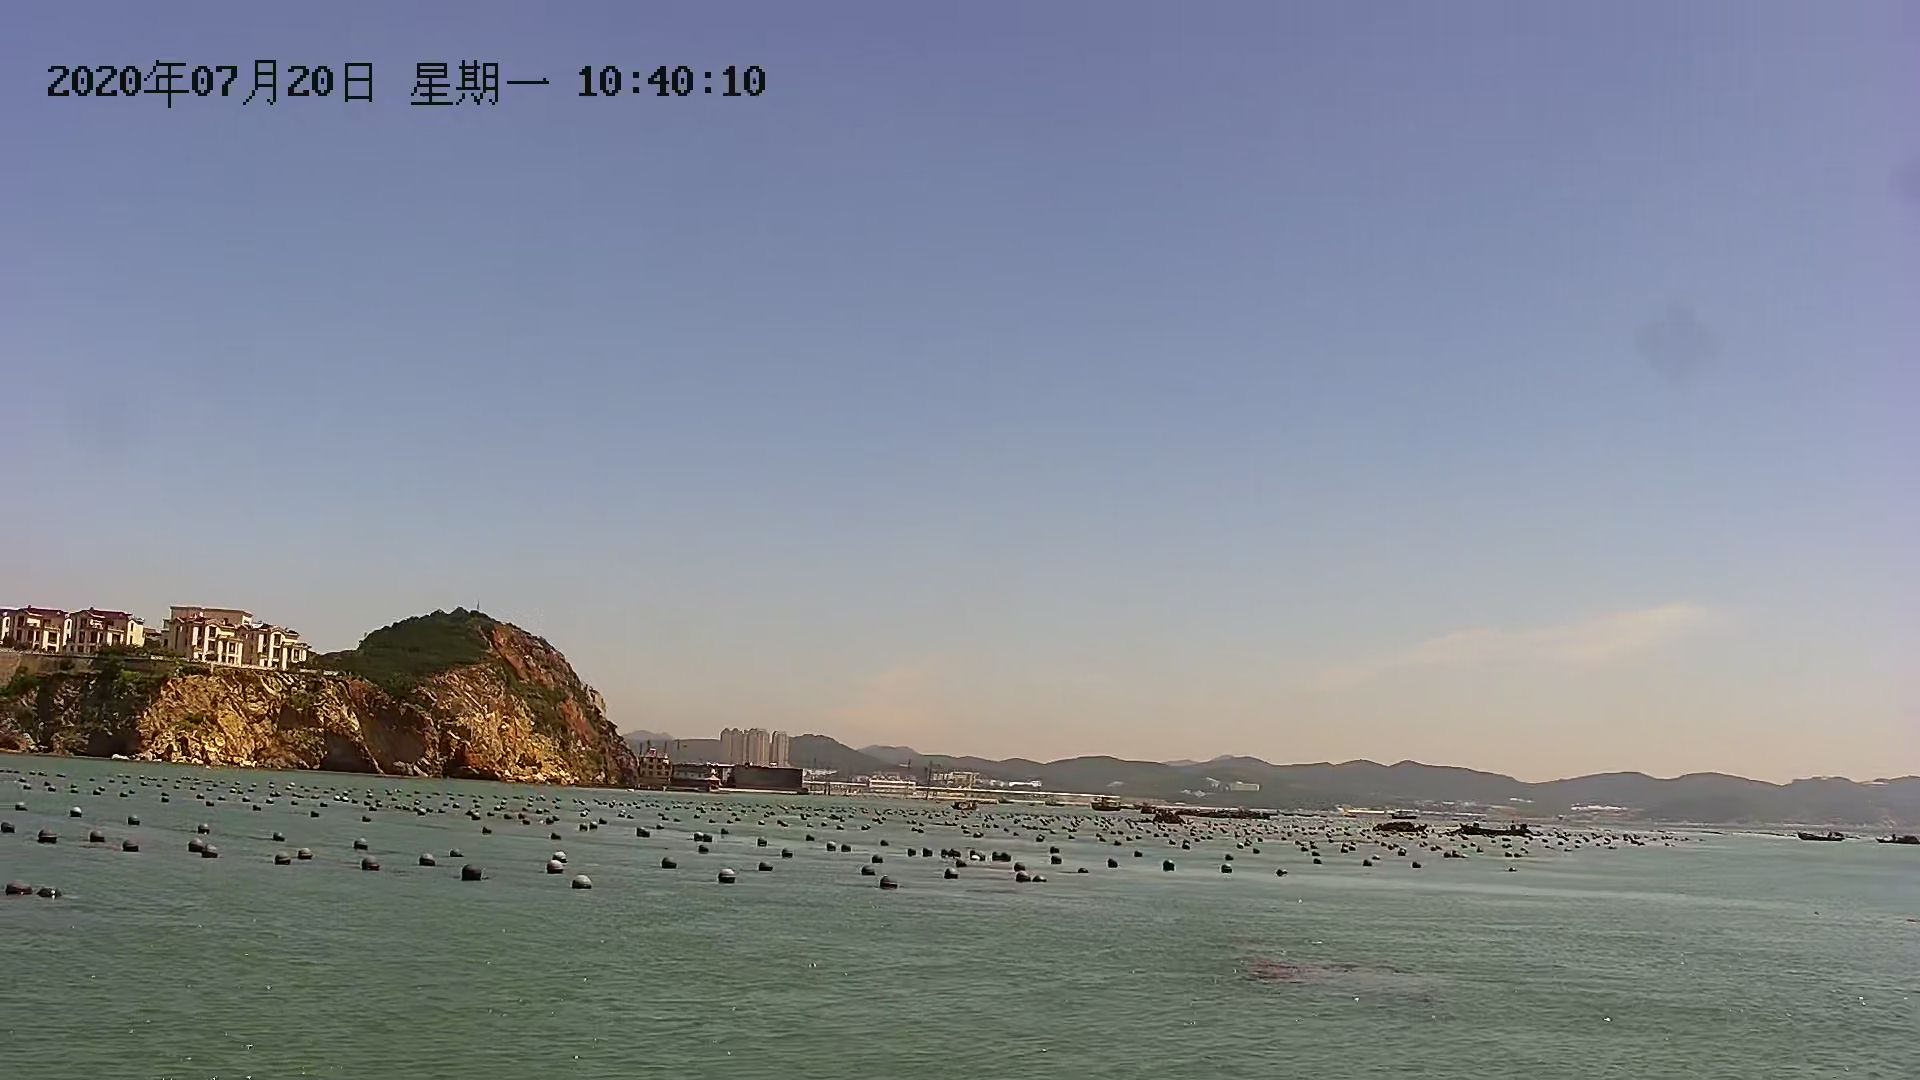ball: (3, 876, 38, 898), (455, 861, 487, 885), (357, 853, 385, 874), (33, 825, 61, 847), (87, 825, 109, 851), (715, 866, 738, 889), (117, 835, 140, 858), (415, 851, 439, 872), (880, 874, 902, 894), (571, 872, 592, 891), (547, 858, 568, 878), (272, 851, 293, 870), (200, 844, 223, 862), (939, 868, 963, 884), (1015, 869, 1034, 889)
